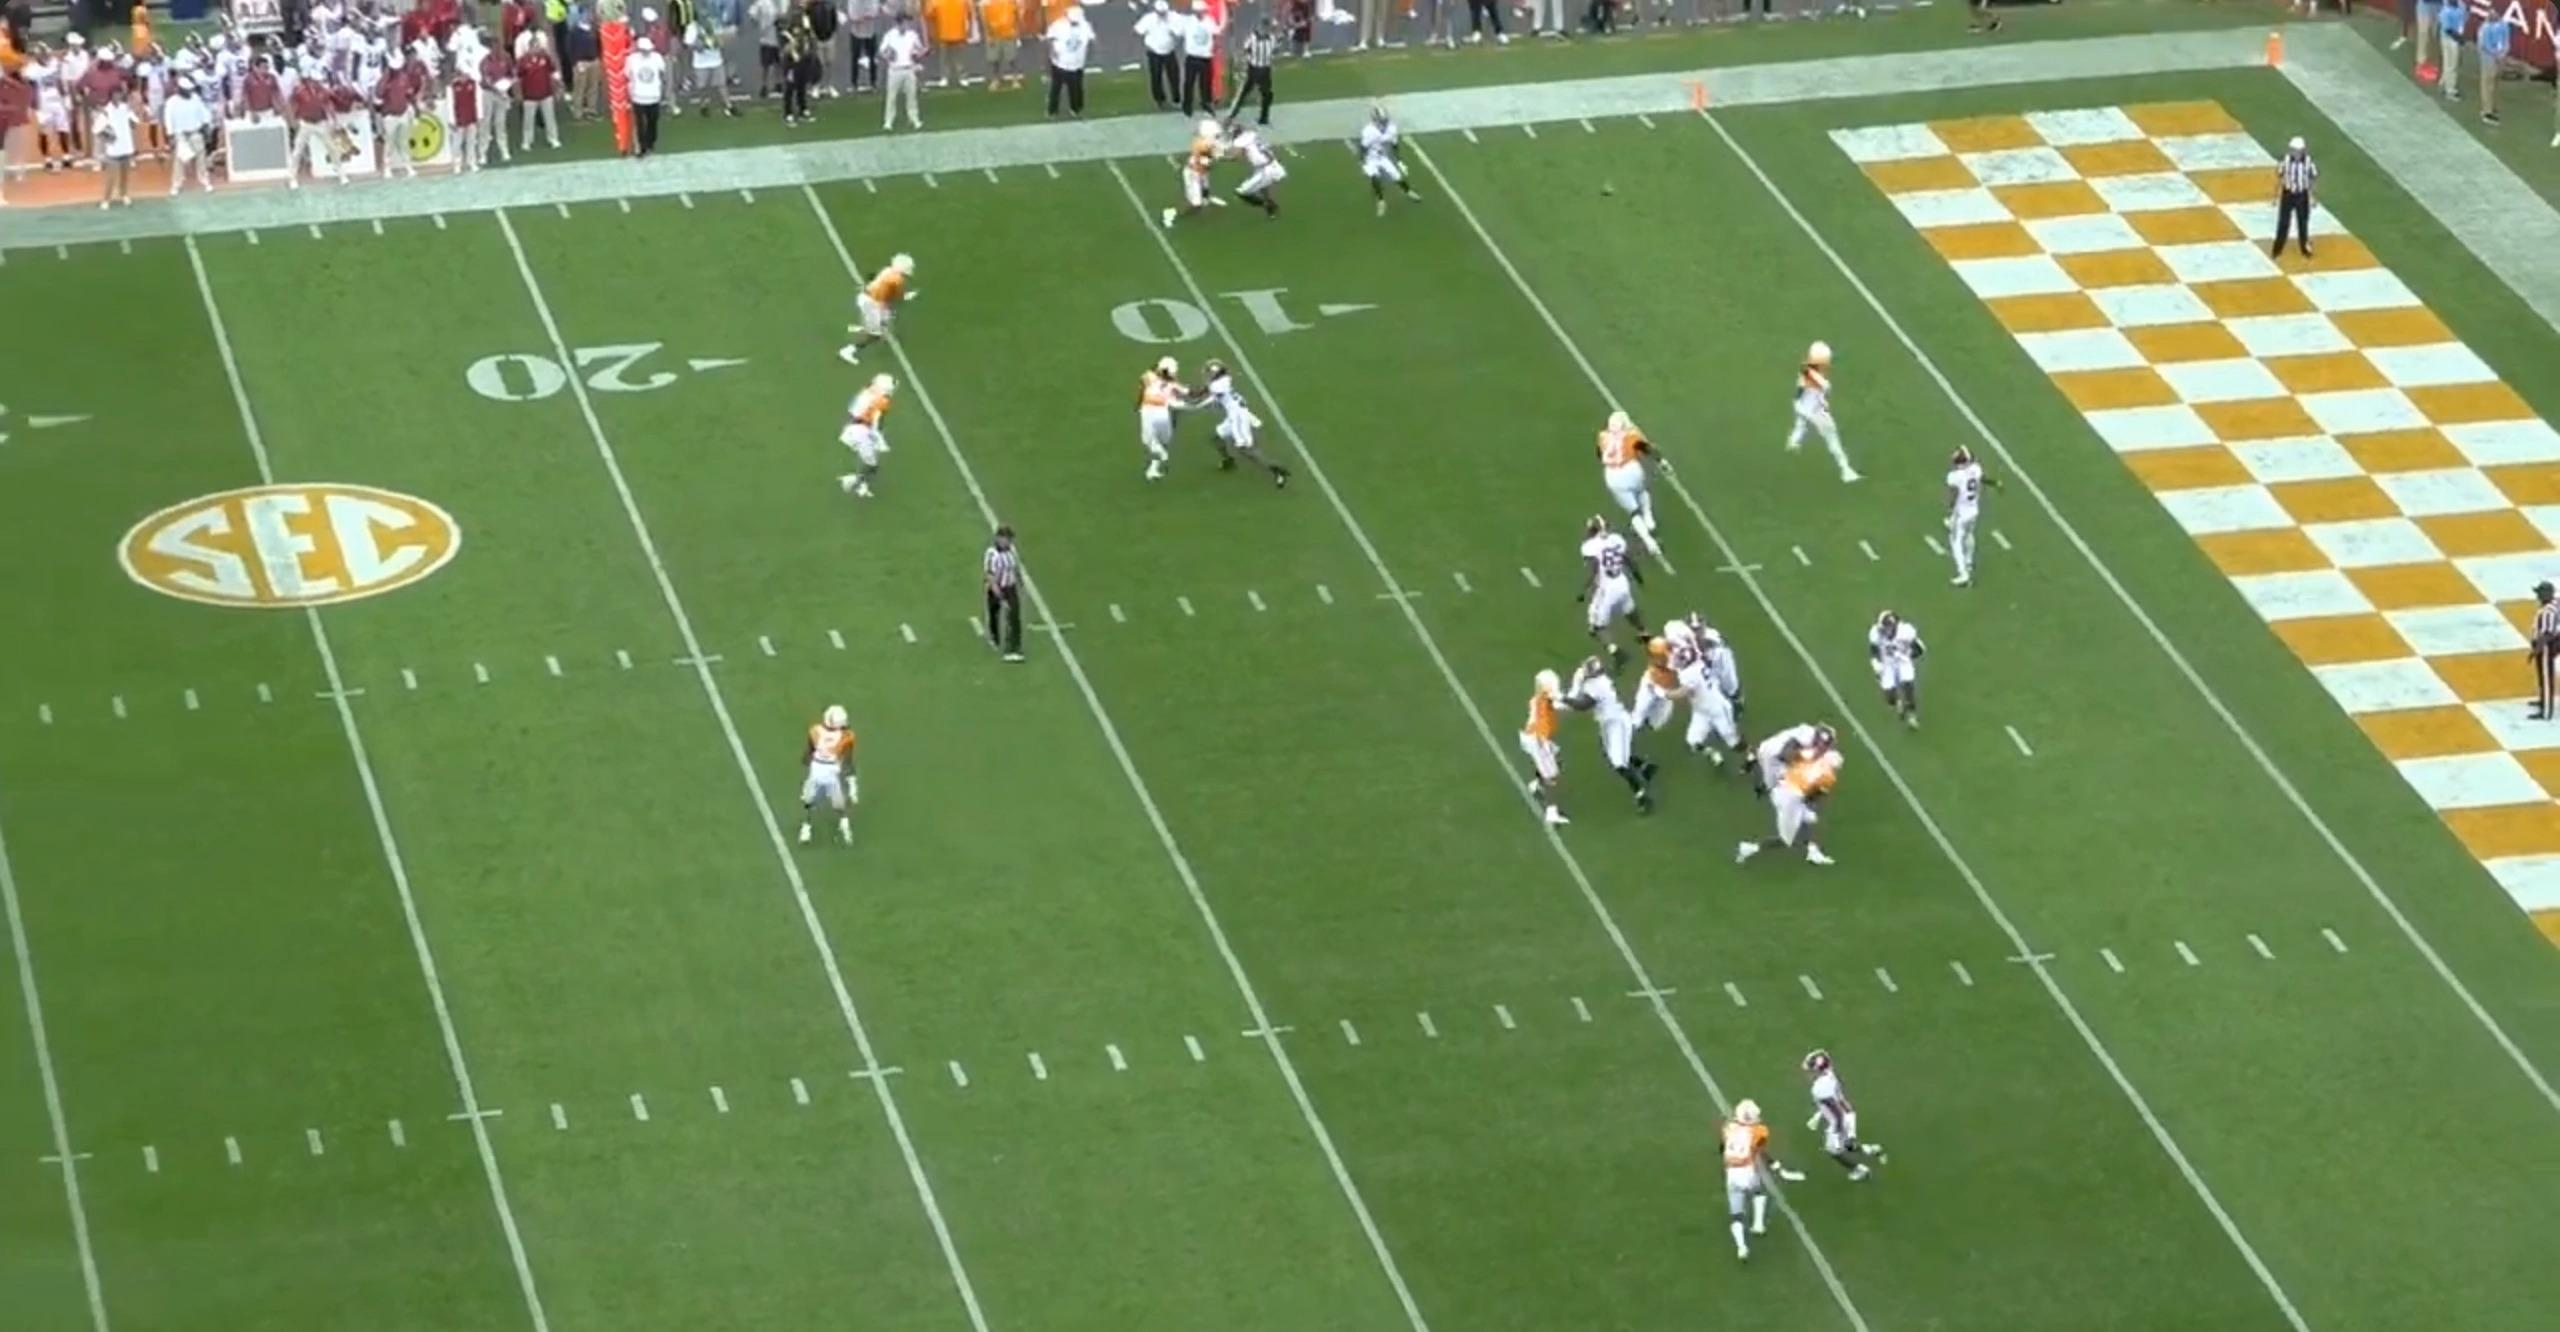defense: (1734, 740, 1854, 881), (1513, 667, 1592, 837), (1719, 1087, 1794, 1266), (1582, 406, 1668, 549), (792, 699, 871, 849), (1775, 337, 1854, 487), (827, 247, 914, 365), (1160, 115, 1242, 234), (1137, 355, 1208, 491), (1626, 620, 1701, 744), (842, 373, 906, 510)
oline: (1552, 649, 1659, 812), (1567, 519, 1653, 670), (1672, 648, 1762, 776), (1754, 721, 1840, 846), (1680, 611, 1754, 720)
qb: (1938, 436, 2004, 589)
ref: (981, 526, 1043, 676), (2270, 134, 2328, 267), (1240, 24, 1292, 134), (2531, 576, 2560, 725)
skill: (1793, 1046, 1891, 1194), (1202, 353, 1304, 492), (1865, 605, 1942, 735), (1348, 111, 1429, 228), (1233, 121, 1299, 226)
